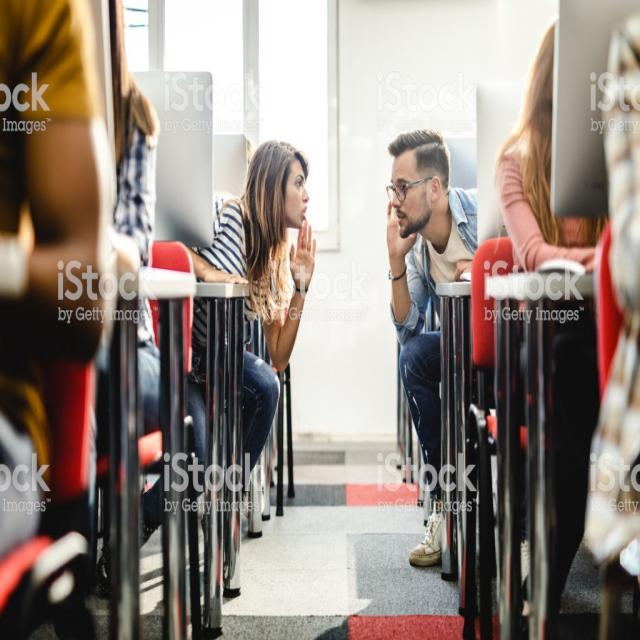cheating: (210, 130, 494, 320)
